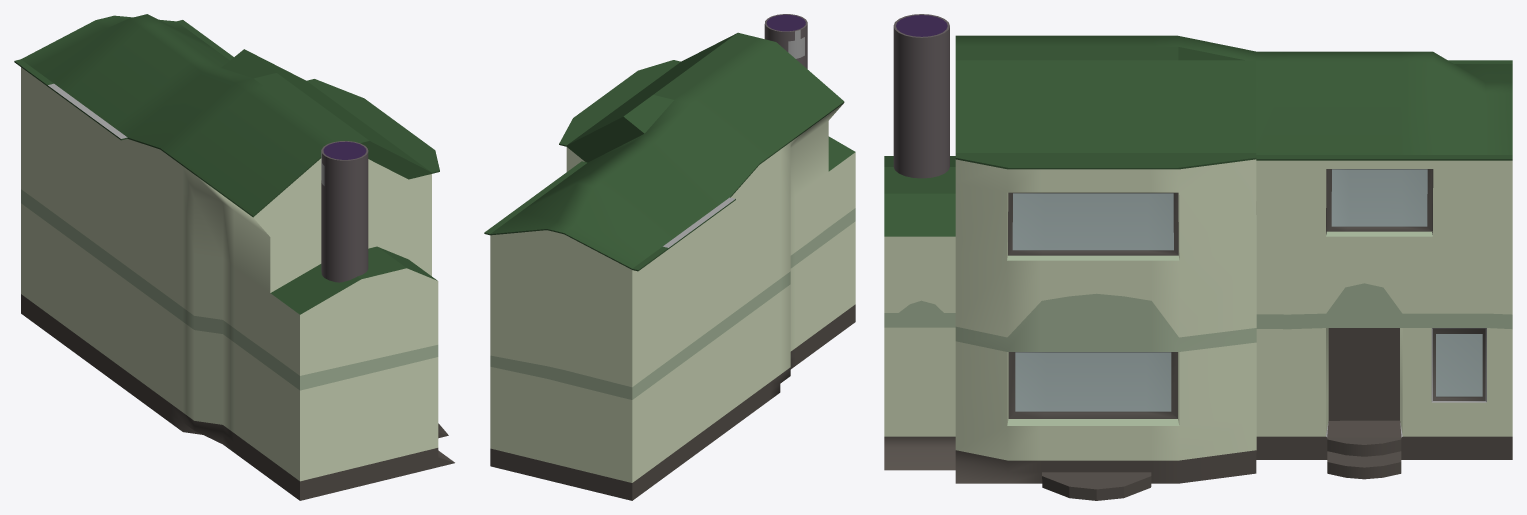
Rendered from house 1.fbx.
The picture shows the model from 3 angles, left to right: view 1: azimuth 30°, elevation 25°; view 2: azimuth 150°, elevation 25°; view 3: azimuth 270°, elevation 25°; orthographic projection. The views are drawn at different scales.
Visible parts, largest first — view 1: house1; view 2: house1; view 3: house1.
Boxes of the visible parts, left/top/right/bottom form: house1: left=14, top=14, right=454, bottom=500; house1: left=484, top=14, right=855, bottom=500; house1: left=884, top=14, right=1512, bottom=500.
Bounding box in the file's own units: 522 × 696 × 1021.
